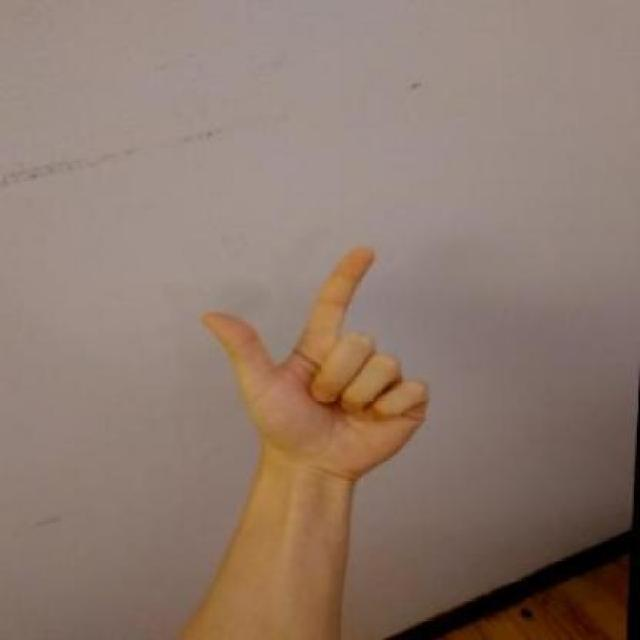L: (184, 234, 444, 495)
